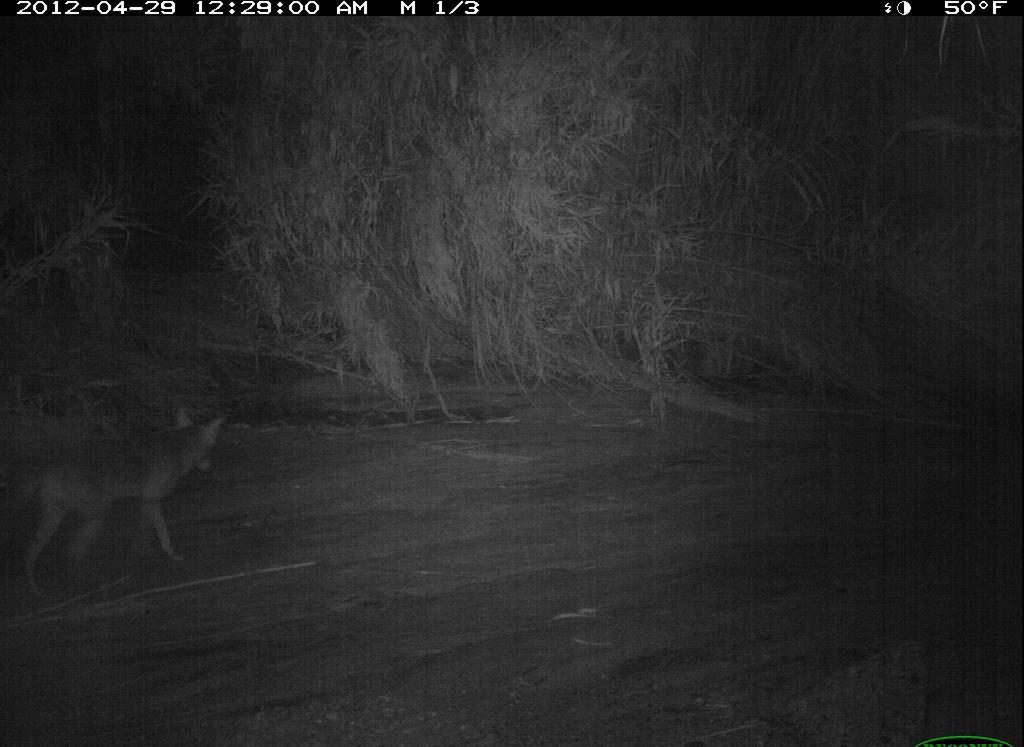coyote: (15, 405, 235, 609)
